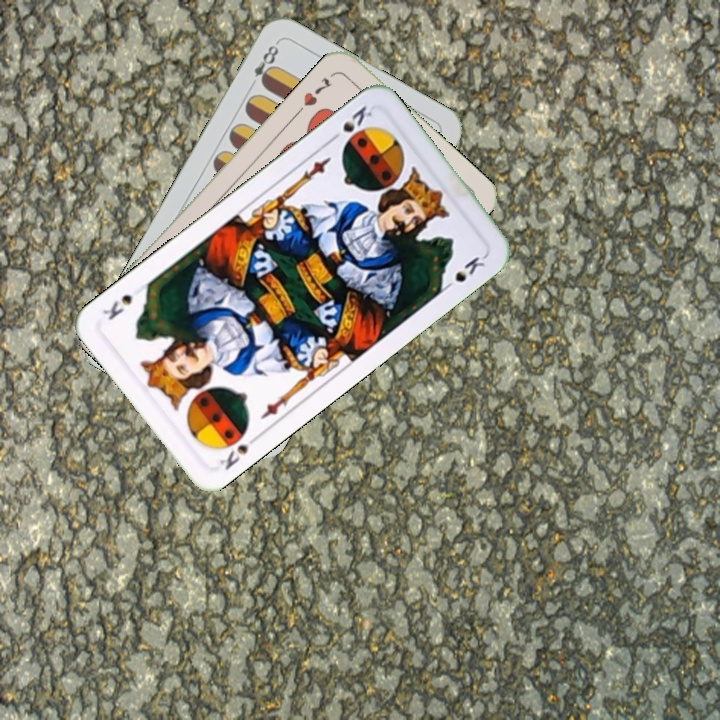E8: (245, 38, 282, 91)
H7: (299, 73, 335, 109)
SK: (325, 101, 375, 145), (215, 430, 263, 473)
